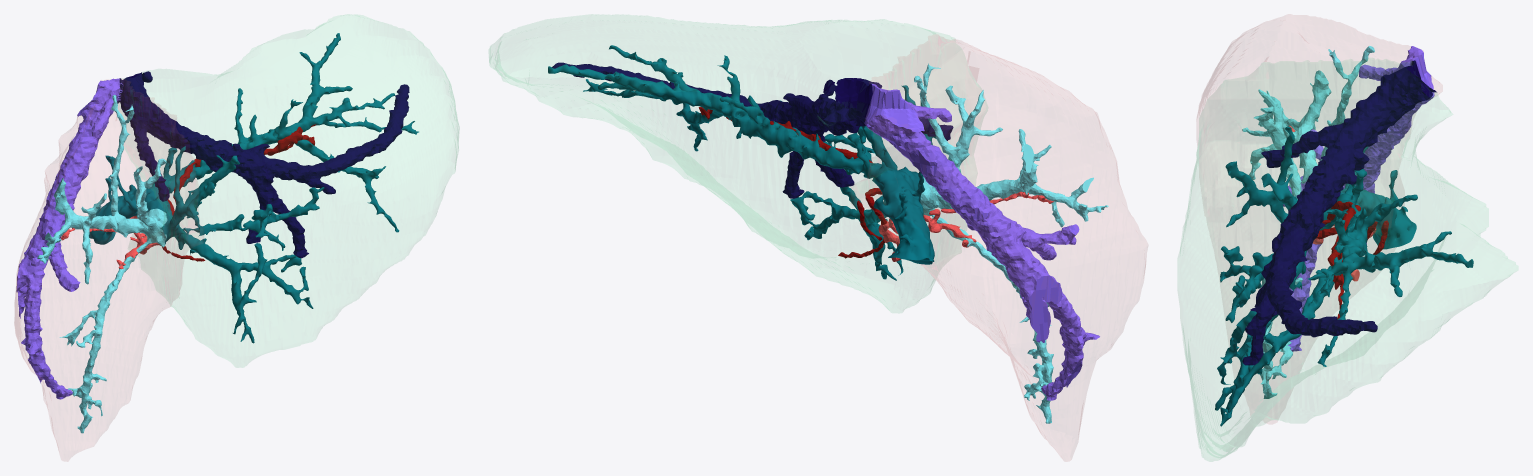
The model's file is liver.glb.
The picture shows the model from 3 angles, left to right: view 1: azimuth 30°, elevation 25°; view 2: azimuth 150°, elevation 25°; view 3: azimuth 270°, elevation 25°; orthographic projection. The views are drawn at different scales.
Size of the model in its own units: 182 by 115 by 82.27.
